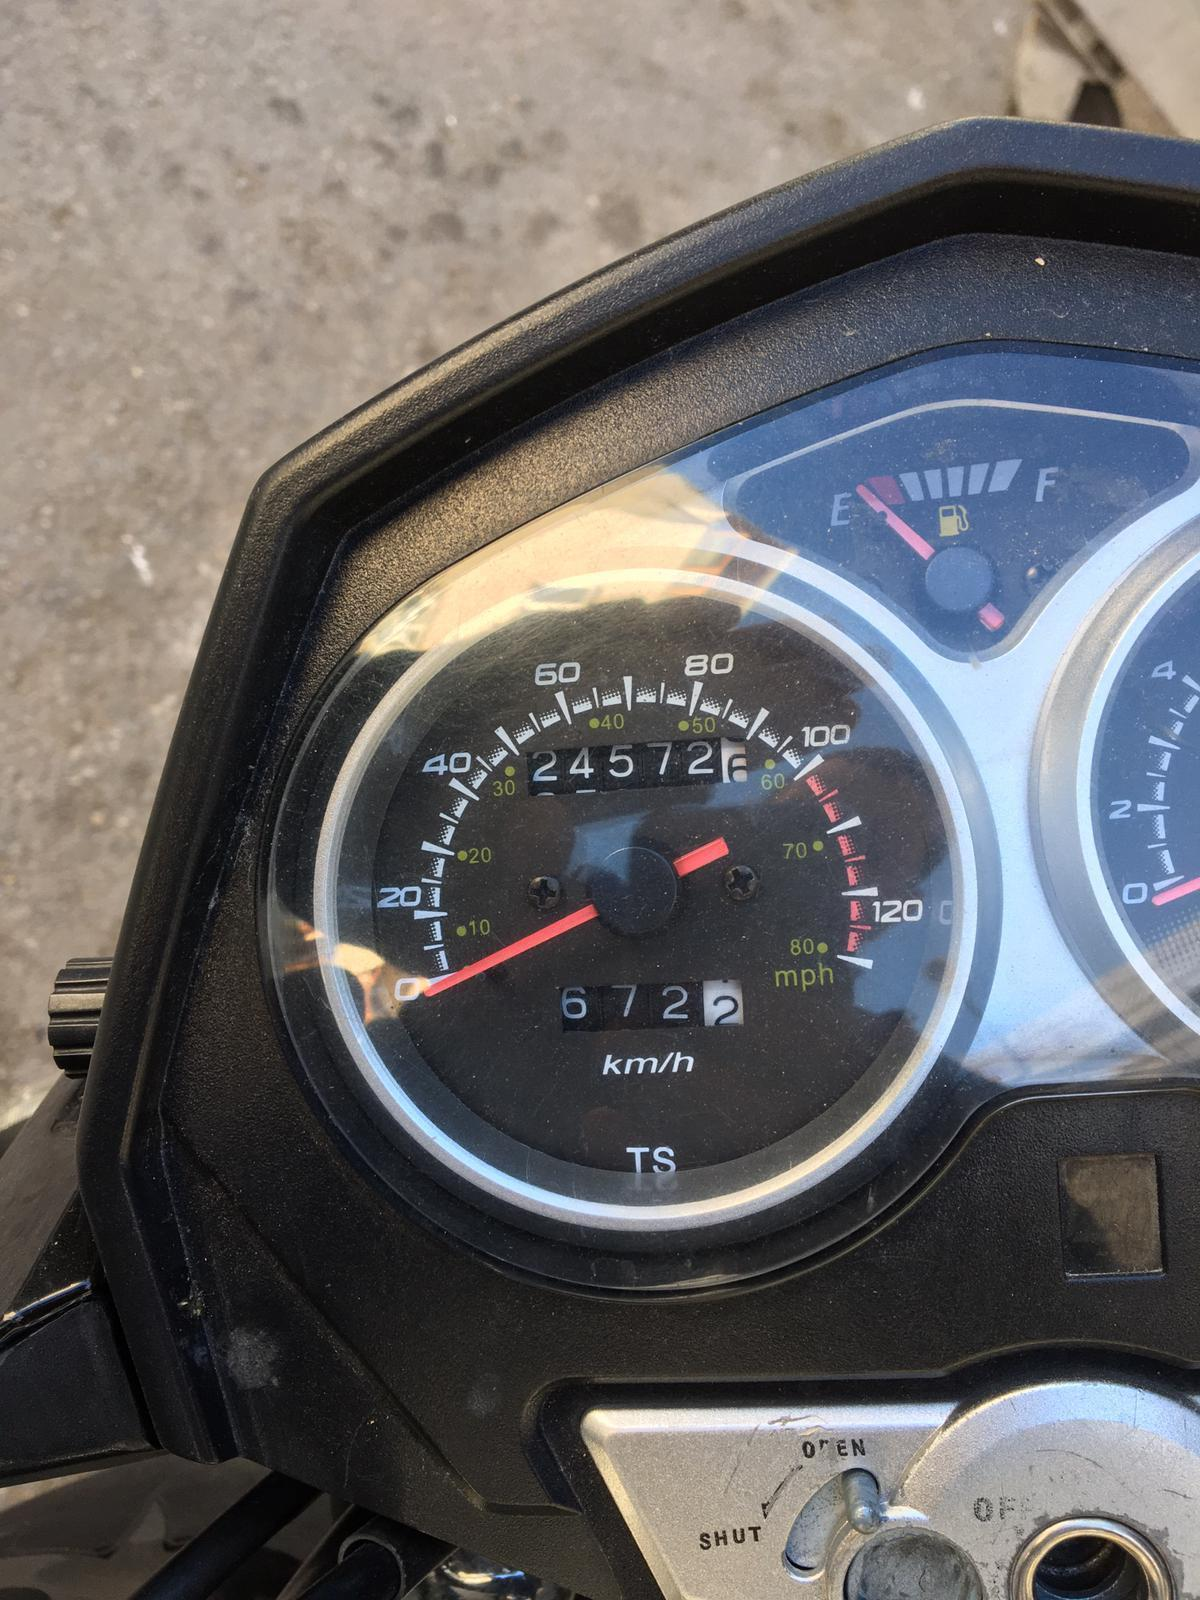2: (686, 740, 713, 774), (531, 750, 557, 781)
4: (568, 746, 595, 779)
5: (608, 743, 634, 779)
6: (729, 753, 750, 784)
7: (645, 741, 673, 776)
odometer: (521, 734, 749, 801)
